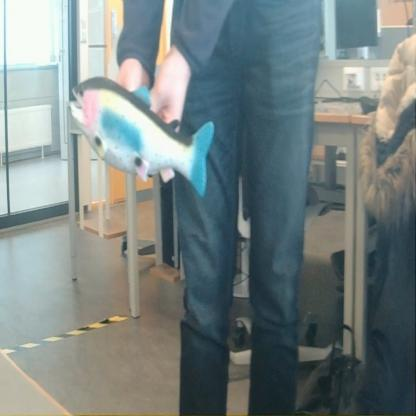rubberfish: (64, 69, 216, 200)
